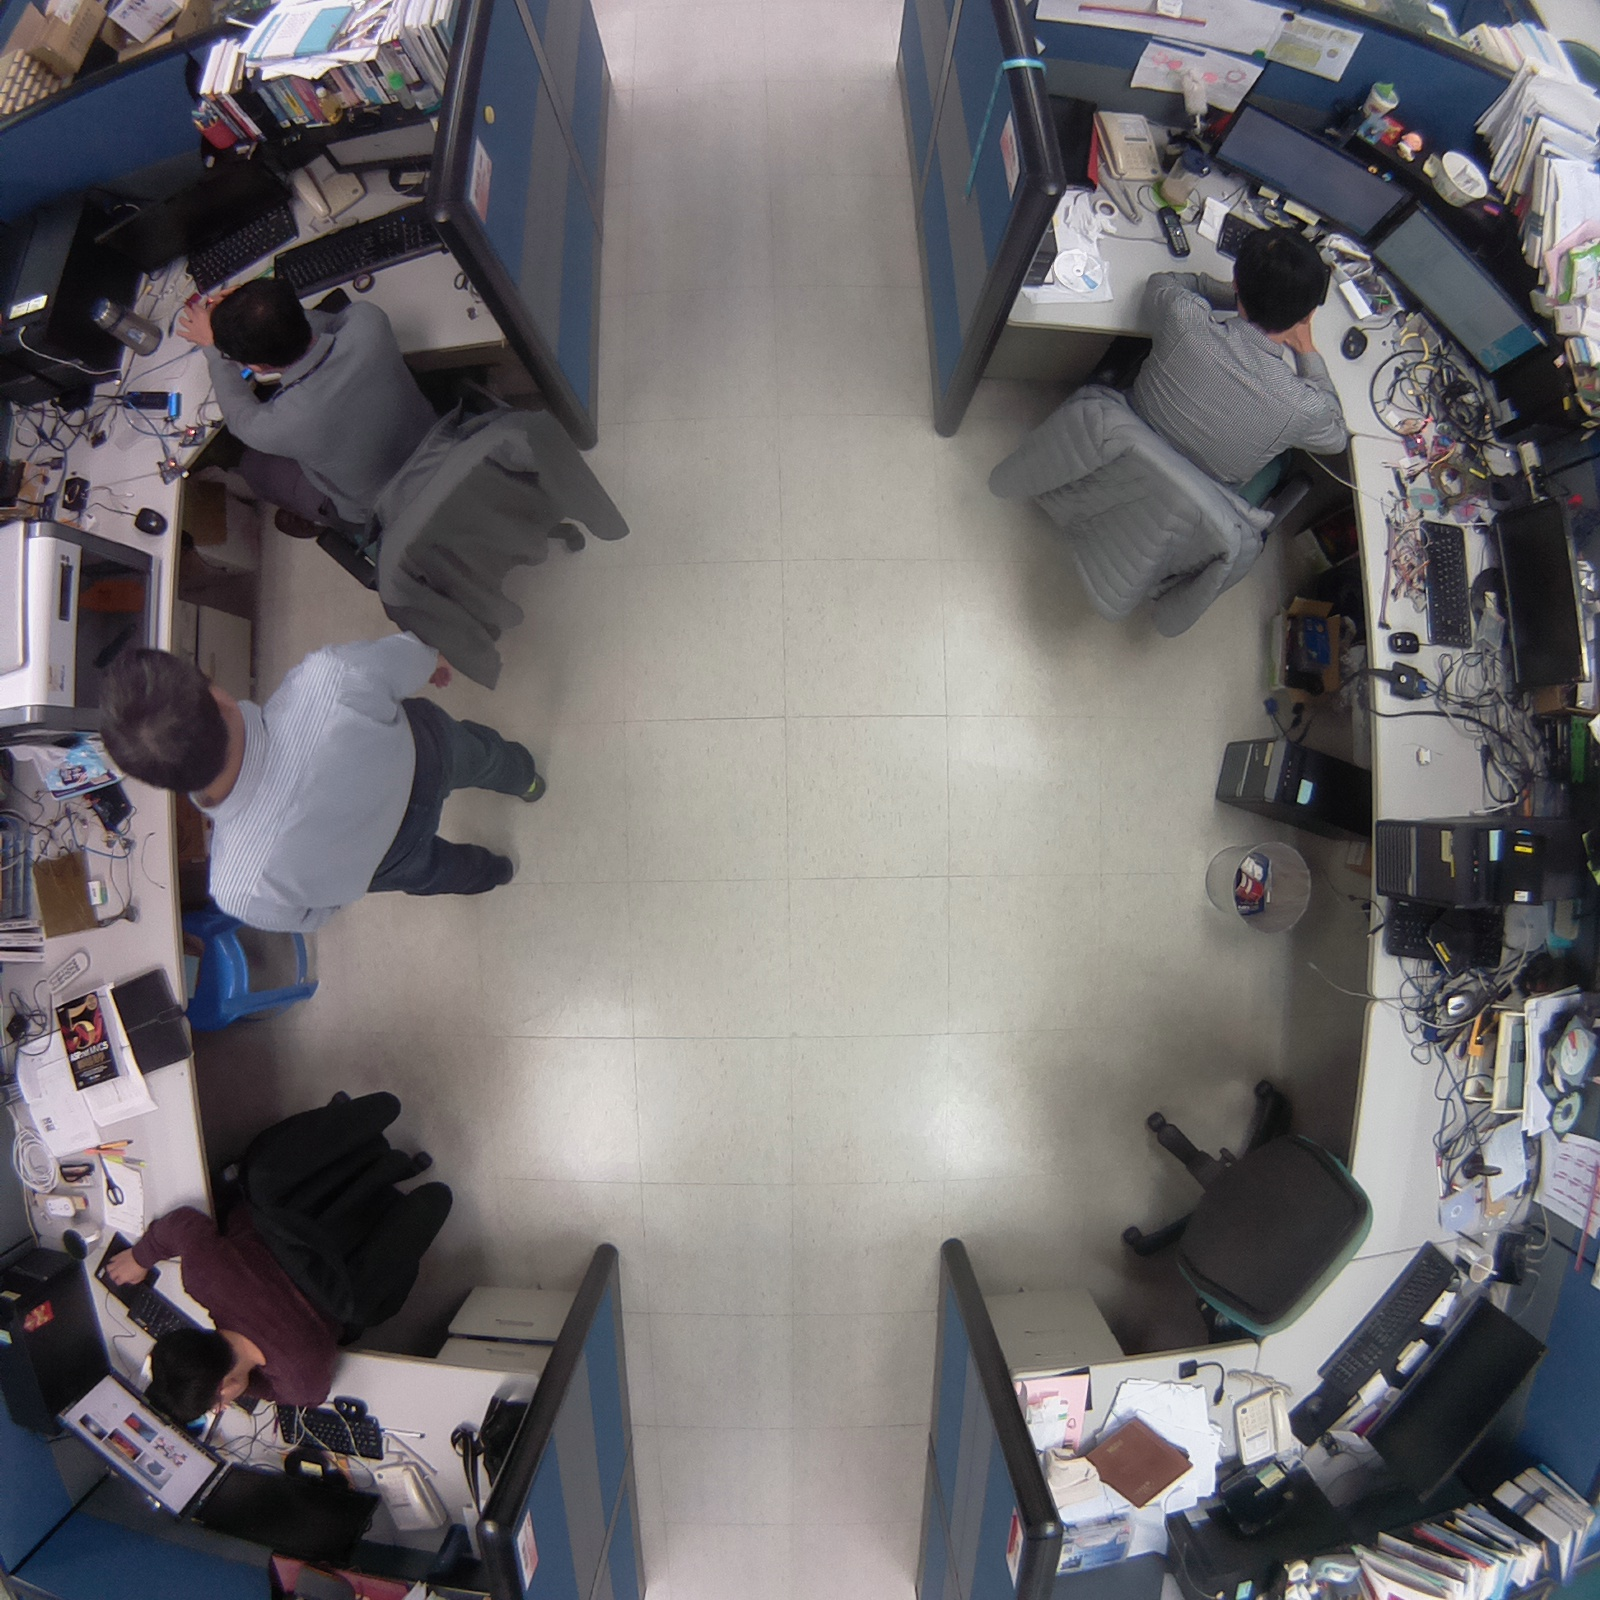chair: (1102, 1059, 1389, 1355)
sitting: (166, 264, 453, 552), (84, 1199, 353, 1440), (1130, 227, 1366, 503)
standing: (75, 615, 585, 952)
